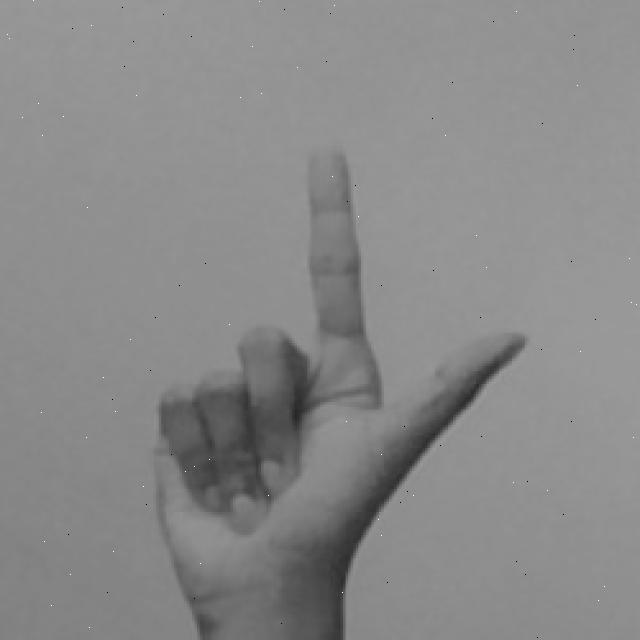L: (142, 133, 533, 640)
